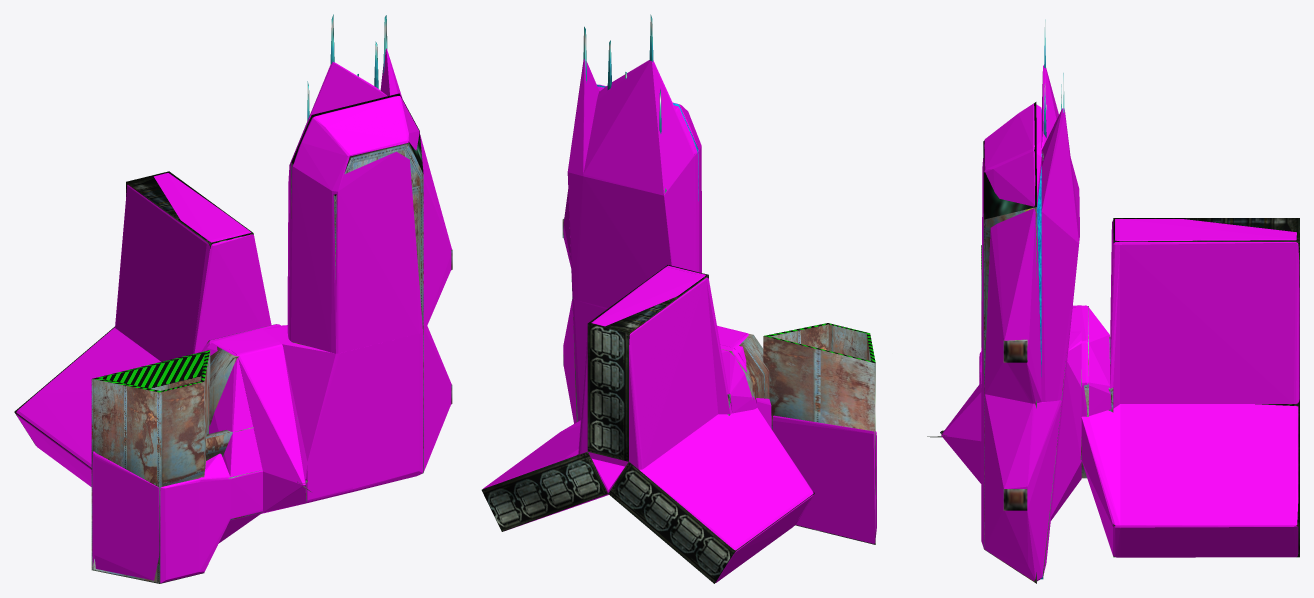
The picture shows the model from 3 angles, left to right: view 1: azimuth 30°, elevation 25°; view 2: azimuth 150°, elevation 25°; view 3: azimuth 270°, elevation 25°; orthographic projection. The views are drawn at different scales.
Parts seen in each view (by area): view 1: COL_CoACD014, ss21a, COL_CoACD007, COL_CoACD015, COL_CoACD000, COL_CoACD010, COL_CoACD006, COL_CoACD004, COL_CoACD009, COL_CoACD005, COL_CoACD003, COL_CoACD012; view 2: ss21a, COL_CoACD012, COL_CoACD007, COL_CoACD004, COL_CoACD001, COL_CoACD016, COL_CoACD011, COL_CoACD015, COL_CoACD002, COL_CoACD014, COL_CoACD008, COL_CoACD009; view 3: COL_CoACD007, COL_CoACD011, COL_CoACD014, COL_CoACD015, COL_CoACD016, ss21a, COL_CoACD013, COL_CoACD010, COL_CoACD008, COL_CoACD006, COL_CoACD009, COL_CoACD012.
Part boxes in pixels (x1,y1,x2,y2): COL_CoACD014: (289, 96, 451, 353); ss21a: (14, 14, 452, 583); COL_CoACD007: (115, 173, 249, 361); COL_CoACD015: (352, 326, 451, 492); COL_CoACD000: (94, 453, 199, 583); COL_CoACD010: (262, 325, 352, 503); COL_CoACD006: (218, 330, 307, 513); COL_CoACD004: (16, 327, 160, 486); COL_CoACD009: (193, 231, 271, 353); COL_CoACD005: (205, 340, 262, 543); COL_CoACD003: (198, 453, 230, 573); COL_CoACD012: (287, 62, 387, 338); ss21a: (481, 14, 875, 583); COL_CoACD012: (583, 60, 695, 307); COL_CoACD007: (578, 267, 717, 469); COL_CoACD004: (608, 414, 811, 582); COL_CoACD001: (772, 415, 876, 543); COL_CoACD016: (567, 59, 599, 303); COL_CoACD011: (483, 425, 624, 528); COL_CoACD015: (563, 299, 608, 423); COL_CoACD002: (718, 408, 813, 525); COL_CoACD014: (563, 84, 701, 272); COL_CoACD008: (720, 345, 757, 413); COL_CoACD009: (666, 265, 732, 414); COL_CoACD007: (1120, 219, 1299, 403); COL_CoACD011: (1120, 404, 1298, 557); COL_CoACD014: (981, 103, 1041, 403); COL_CoACD015: (981, 354, 1063, 581); COL_CoACD016: (1041, 108, 1079, 401); ss21a: (927, 19, 1299, 583); COL_CoACD013: (1081, 404, 1120, 557); COL_CoACD010: (981, 331, 1081, 520); COL_CoACD008: (1081, 305, 1109, 416); COL_CoACD006: (941, 307, 1081, 483); COL_CoACD009: (1110, 219, 1119, 409); COL_CoACD012: (1041, 65, 1079, 231).
Bounding box in the file's own units: 90.68 × 130 × 78.51.
2 materials, 1 textured.
